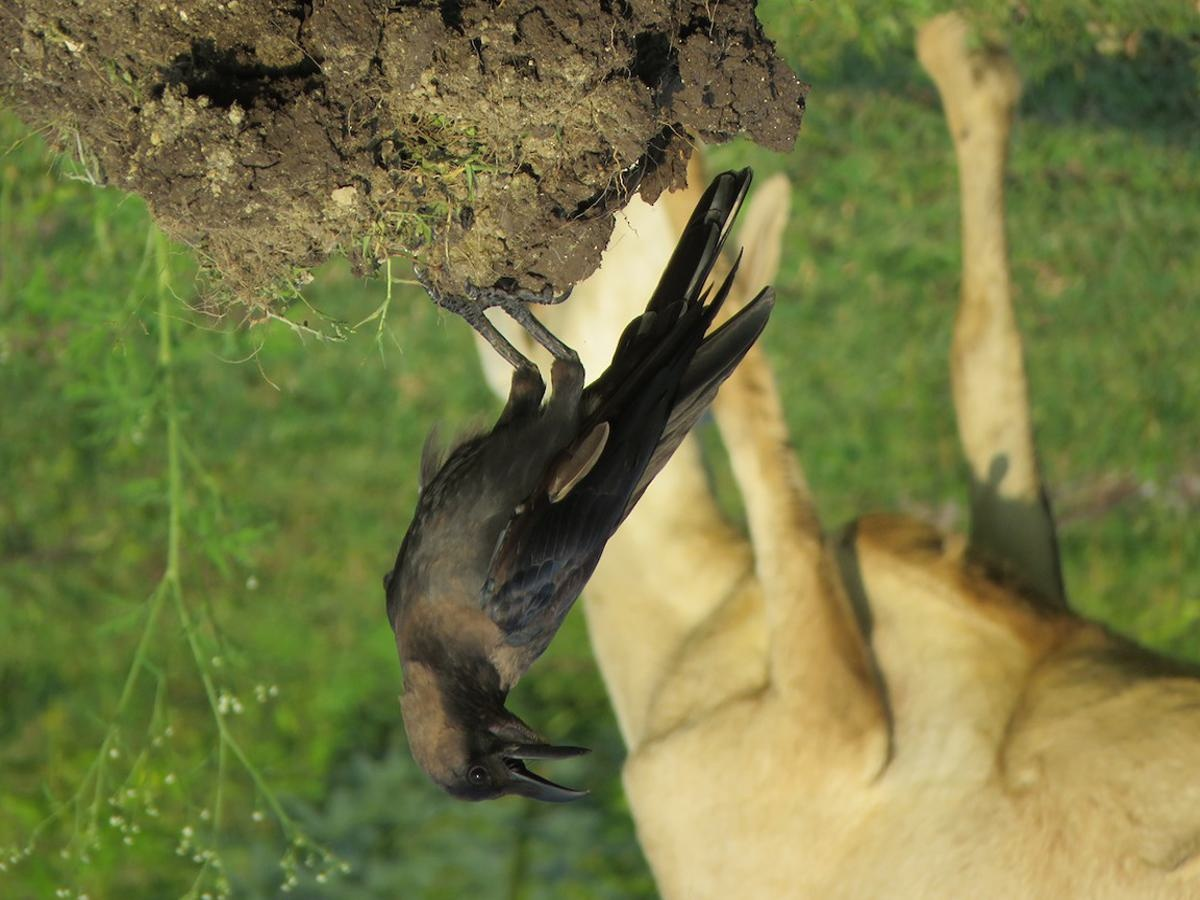crow: (383, 140, 781, 820)
